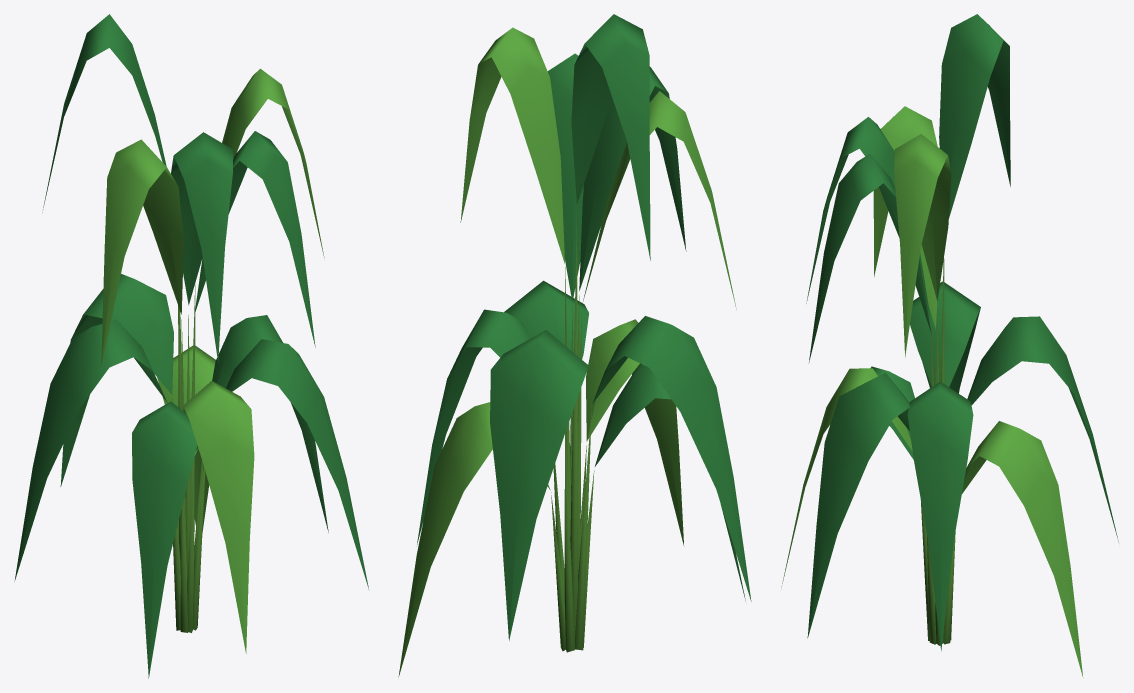
The model's file is plant_ginger-b.glb.
3 views of the same model, side by side, from view 1: azimuth 30°, elevation 25°; view 2: azimuth 150°, elevation 25°; view 3: azimuth 270°, elevation 25° (orthographic). The views are drawn at different scales.
Parts seen in each view (by area): view 1: plant_ginger-b; view 2: plant_ginger-b; view 3: plant_ginger-b.
Part boxes in pixels (x1,y1,x2,y2): plant_ginger-b: (14, 14, 369, 678); plant_ginger-b: (398, 14, 751, 676); plant_ginger-b: (781, 14, 1118, 677).
Size of the model in its own units: 0.3598 by 0.677 by 0.347.
